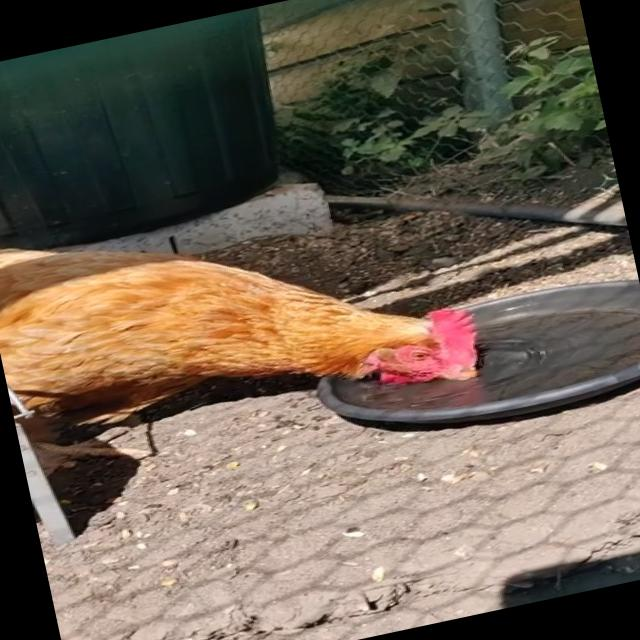drinking: (0, 152, 508, 472)
